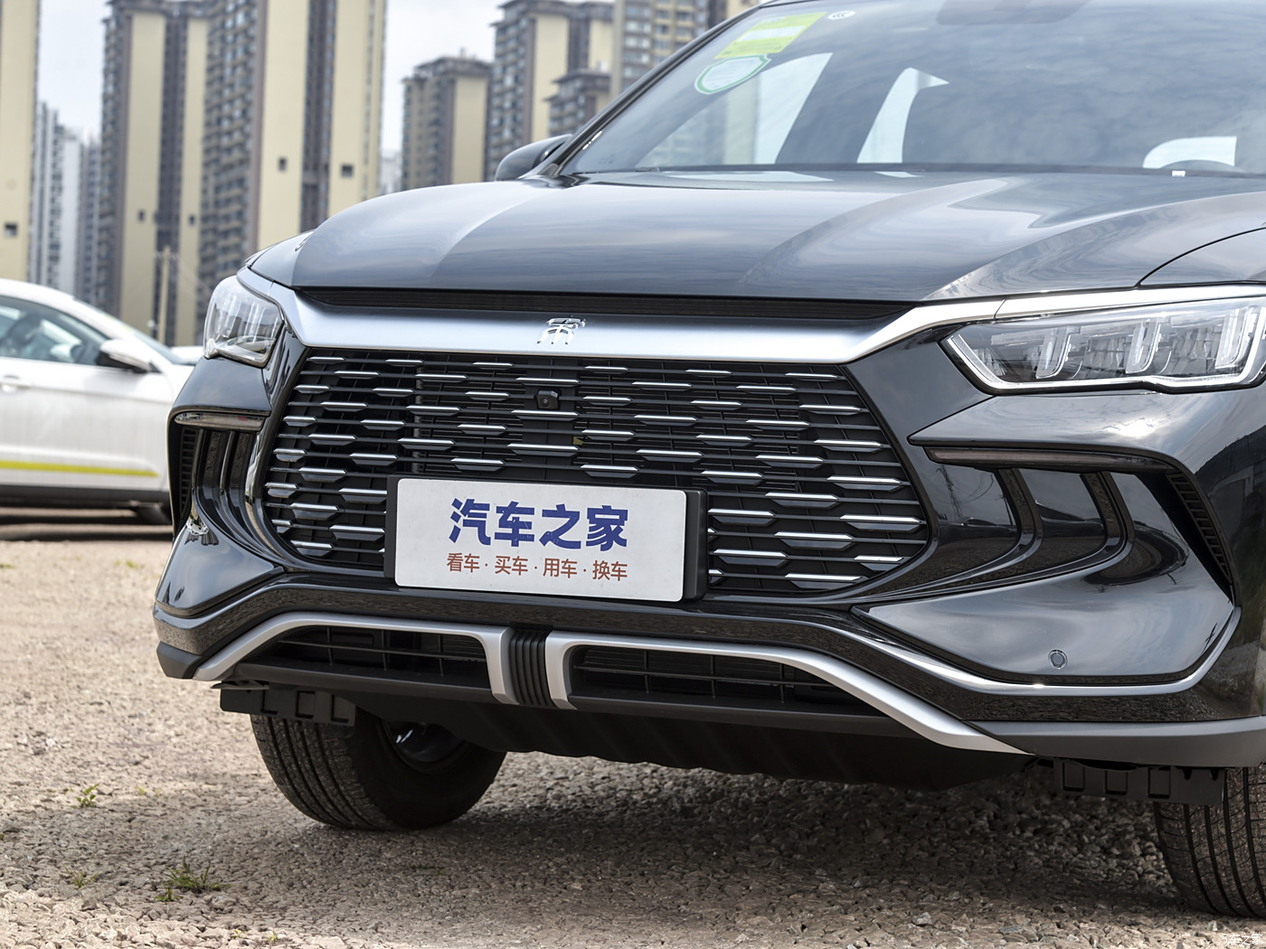BYD Song: (536, 315, 585, 343)
